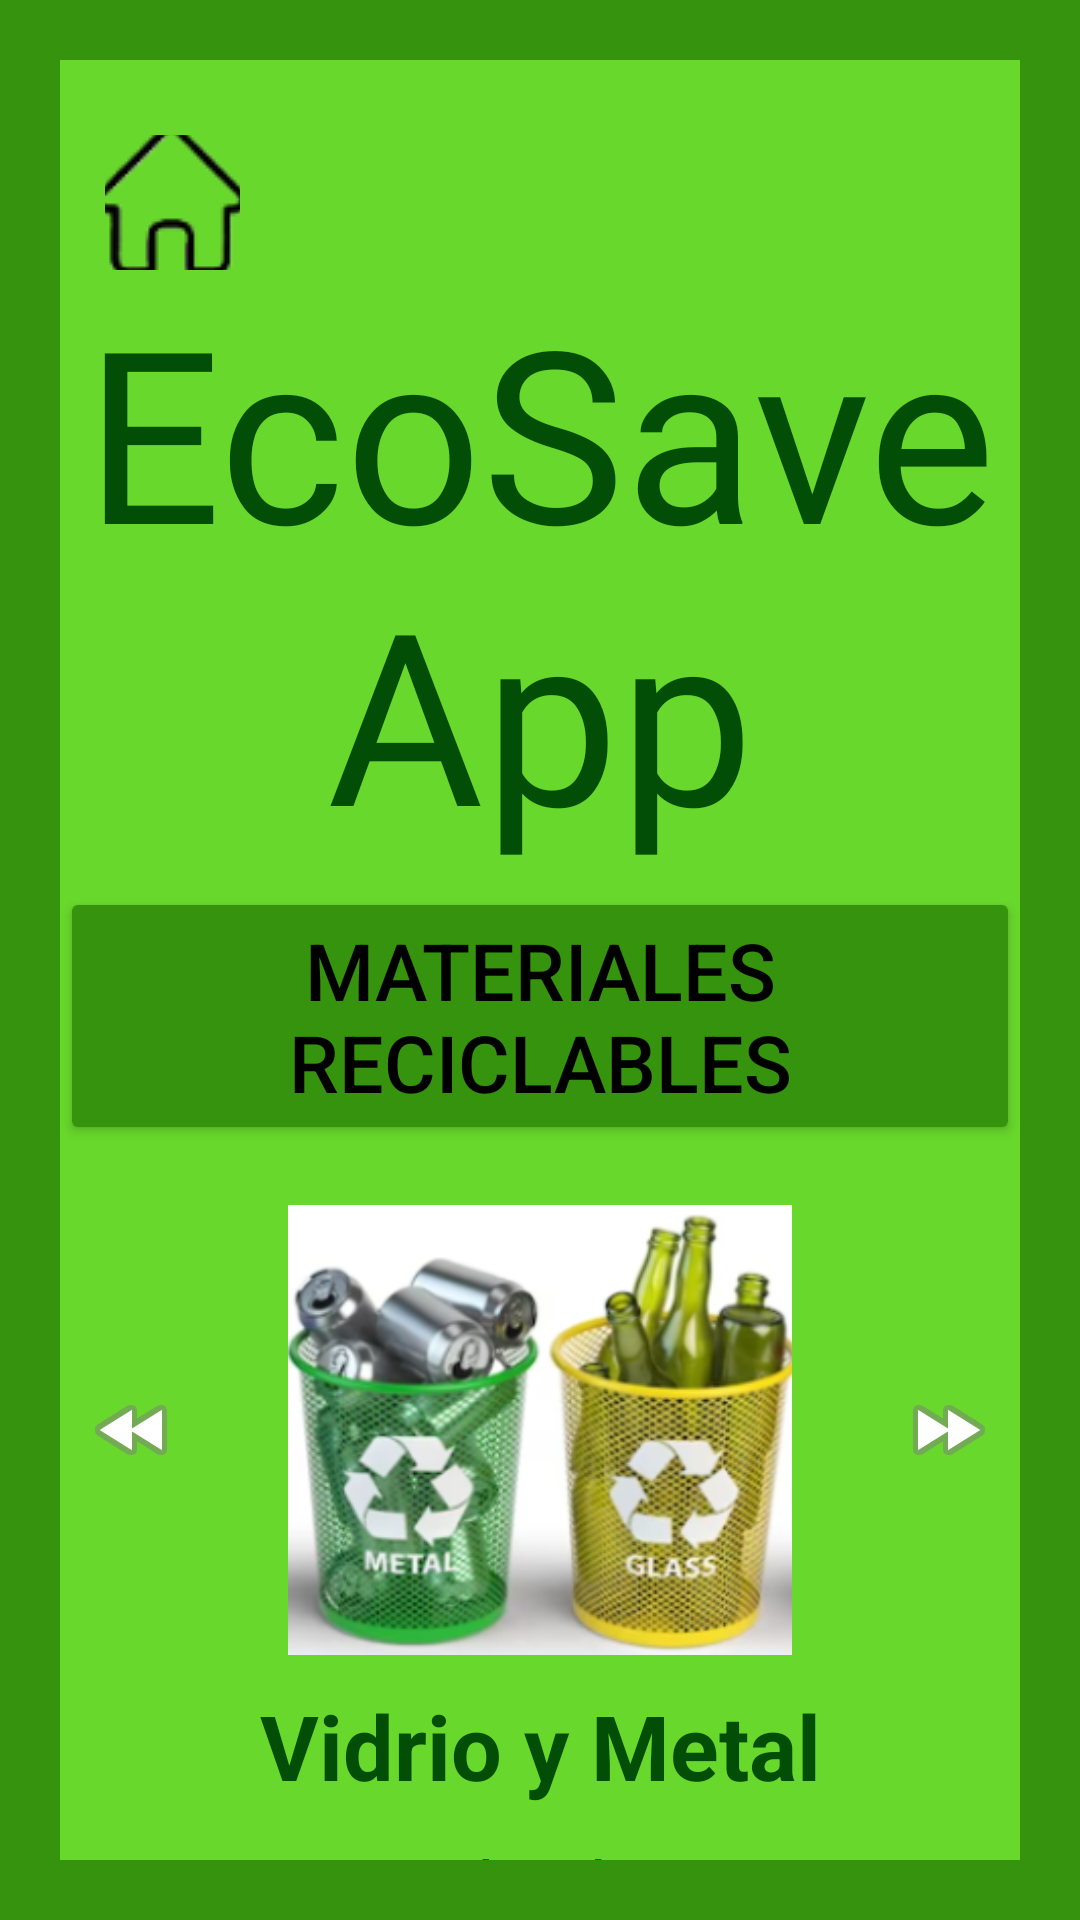

Screen size 1080w x 1920h. Icon name, then its box in pixels as rect(x1, y1, x2, y2):
casa: rect(105, 135, 240, 270)
rew: rect(95, 1405, 167, 1455)
